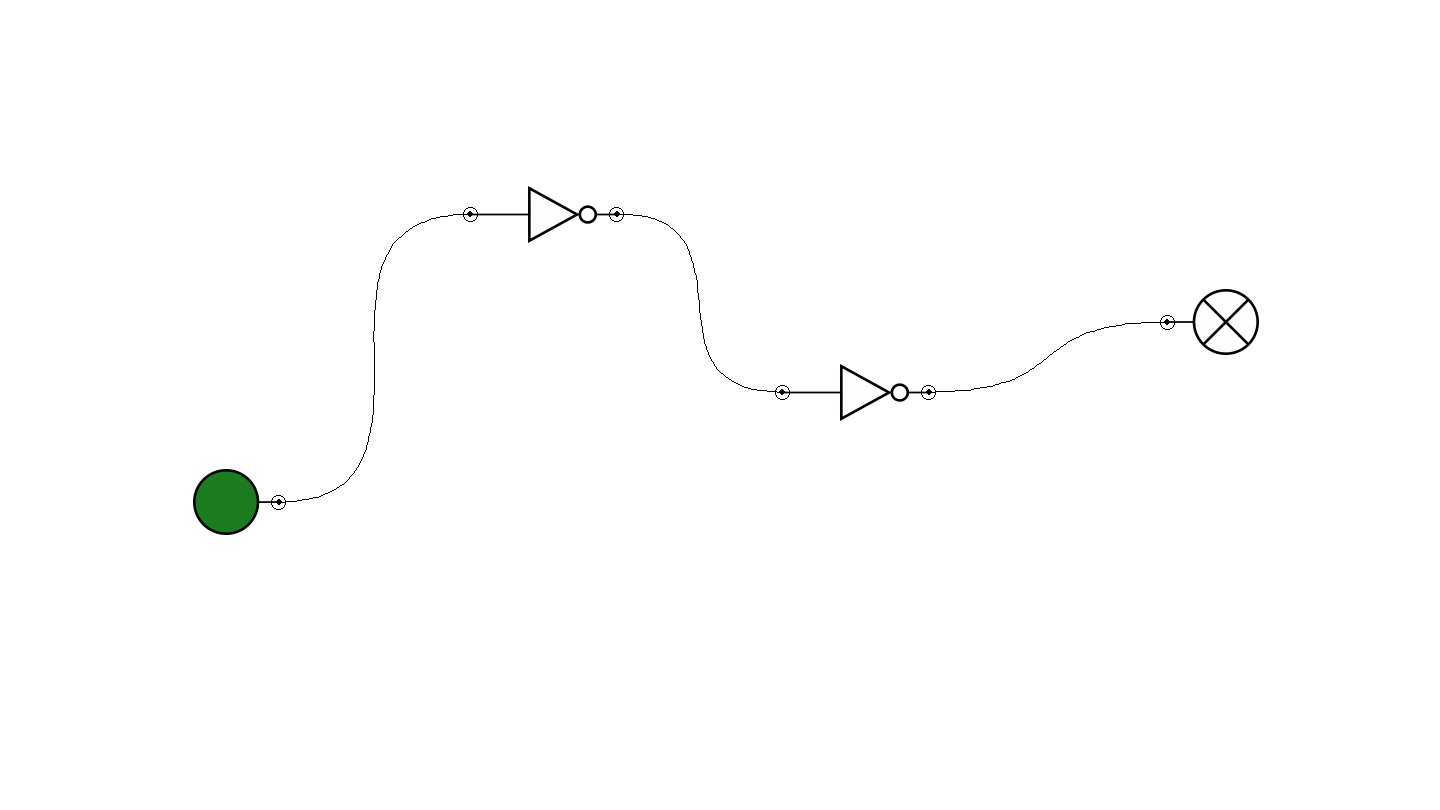bulb: (1160, 289, 1259, 355)
not: (463, 186, 624, 243), (775, 364, 936, 421)
switch_True: (193, 469, 286, 535)
